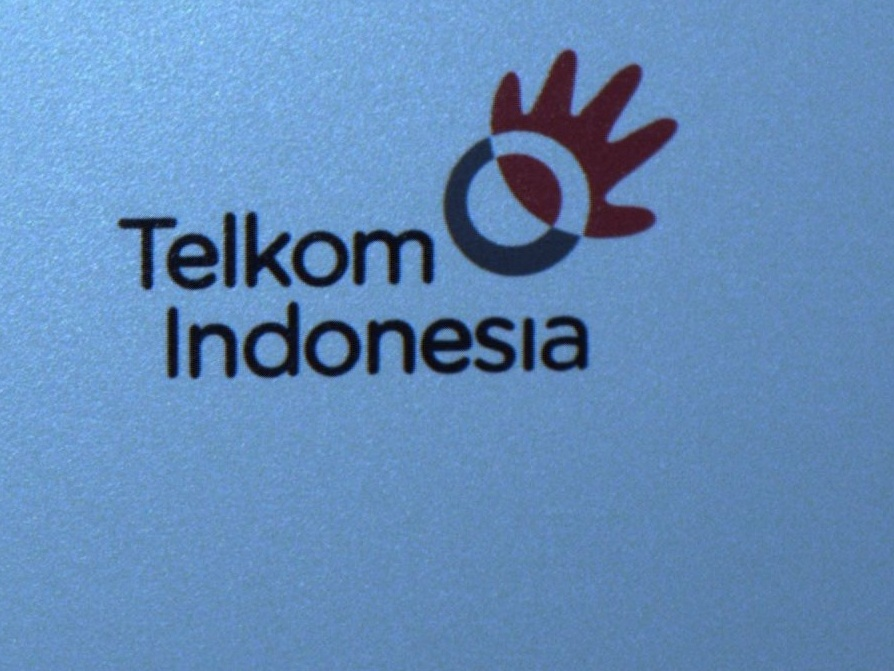BQ_IndonTelkom: (112, 48, 676, 379)
